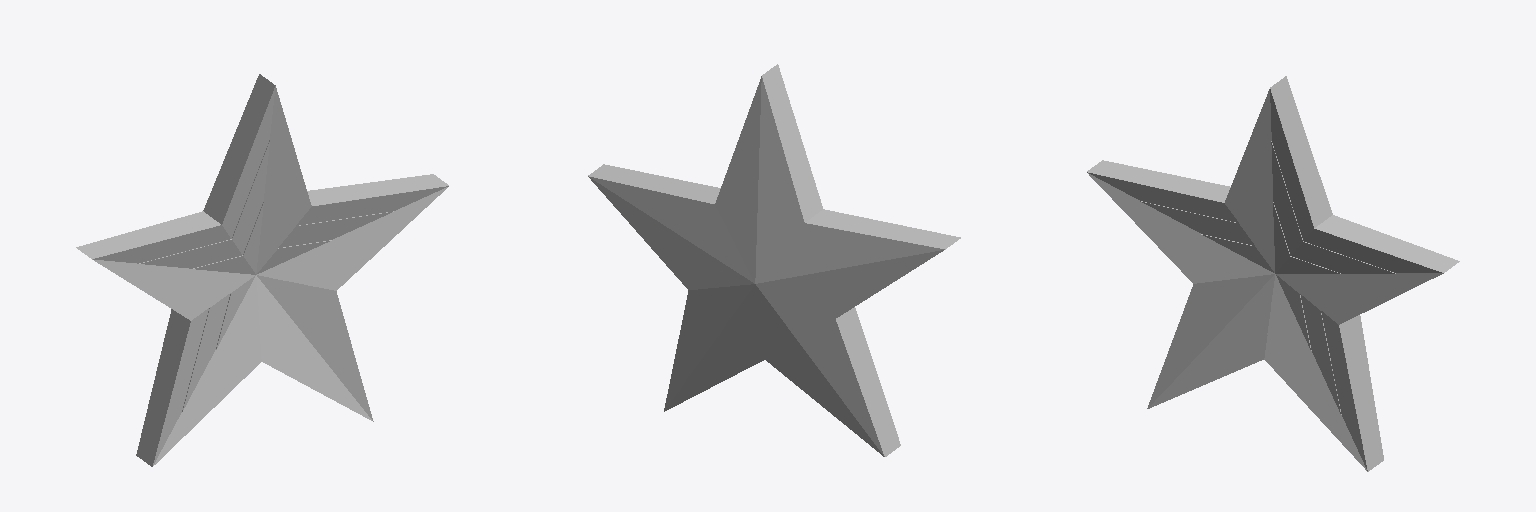
File: star.obj
3 views of the same model, side by side, from view 1: azimuth 30°, elevation 25°; view 2: azimuth 150°, elevation 25°; view 3: azimuth 330°, elevation 25° (orthographic).
Parts seen in each view (by area): view 1: Sphere; view 2: Sphere; view 3: Sphere.
Part boxes in pixels (x1,y1,x2,y2): Sphere: (76,74,448,466); Sphere: (588,64,960,456); Sphere: (1087,76,1459,471).
Size of the model in its own units: 8.88 by 8.55 by 1.28.